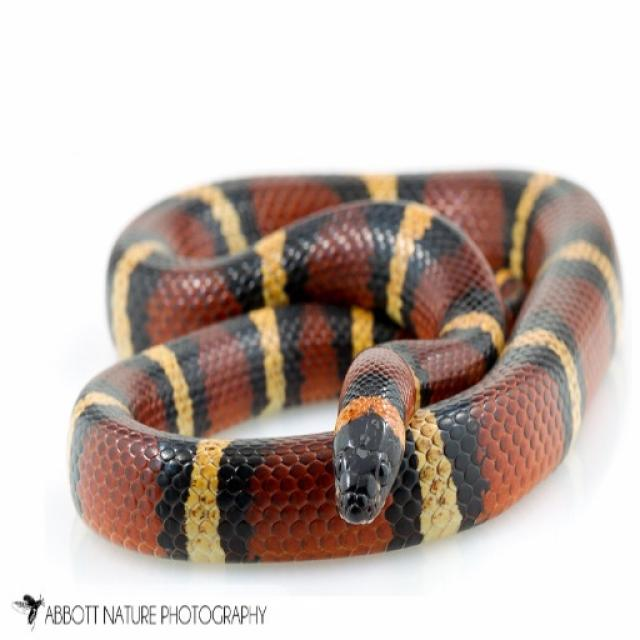snake: (56, 152, 640, 568)
